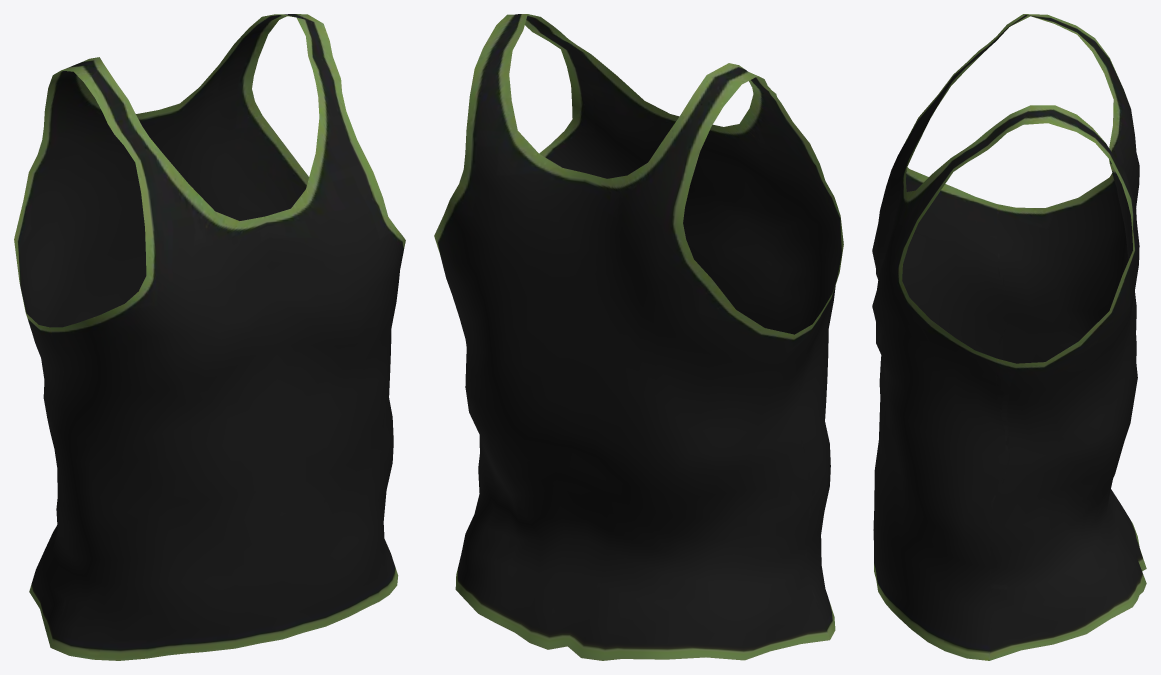
Rendered from mindfront-tank-top-01.glb.
The picture shows the model from 3 angles, left to right: view 1: azimuth 30°, elevation 25°; view 2: azimuth 150°, elevation 25°; view 3: azimuth 270°, elevation 25°; orthographic projection. The views are drawn at different scales.
Visible parts, largest first — view 1: Human.mindfront_tank_top_01; view 2: Human.mindfront_tank_top_01; view 3: Human.mindfront_tank_top_01.
Part boxes in pixels (x1,y1,x2,y2): Human.mindfront_tank_top_01: (14,14,405,660); Human.mindfront_tank_top_01: (434,14,843,660); Human.mindfront_tank_top_01: (872,14,1146,660).
Bounding box in the file's own units: 0.3637 × 0.5577 × 0.266.
Materials: 1 (1 with a texture image).
